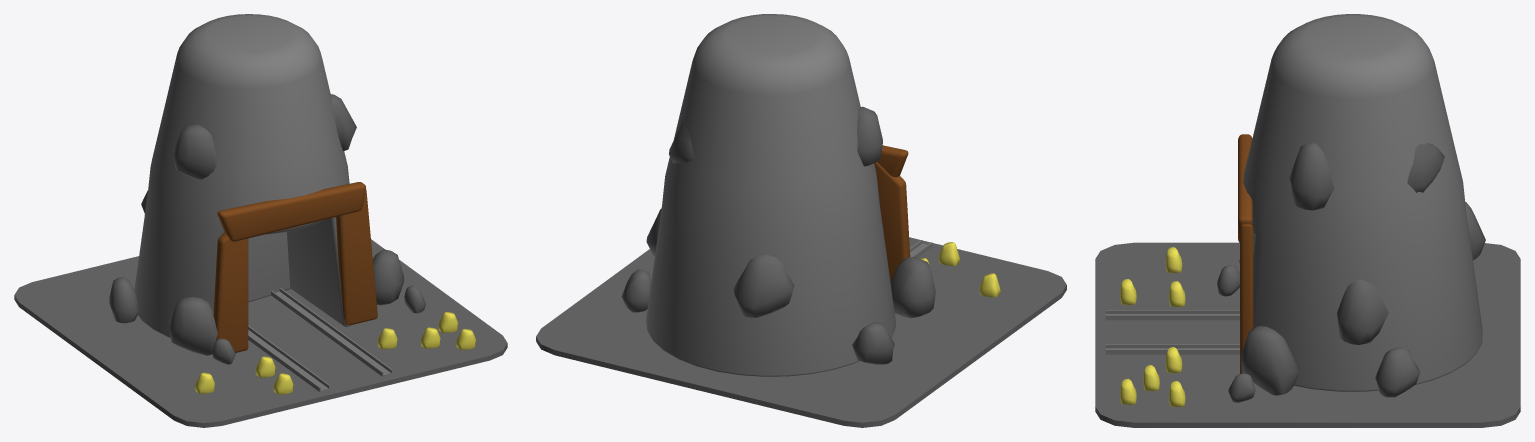
File: gold mine.fbx
3 views of the same model, side by side, from view 1: azimuth 30°, elevation 25°; view 2: azimuth 150°, elevation 25°; view 3: azimuth 270°, elevation 25° (orthographic). The views are drawn at different scales.
Visible parts, largest first — view 1: Cube.001; view 2: Cube.001; view 3: Cube.001.
Part boxes in pixels (x1,y1,x2,y2): Cube.001: [14, 14, 507, 427]; Cube.001: [536, 14, 1066, 427]; Cube.001: [1095, 14, 1520, 427].
Bounding box in the file's own units: 627 × 498 × 627.
